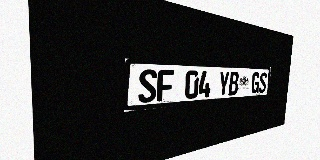0: (184, 70, 199, 99)
4: (198, 71, 211, 98)
B: (228, 71, 239, 96)
F: (157, 70, 174, 102)
G: (251, 72, 260, 94)
S: (138, 69, 157, 103), (258, 72, 267, 93)
Y: (218, 71, 230, 96)
